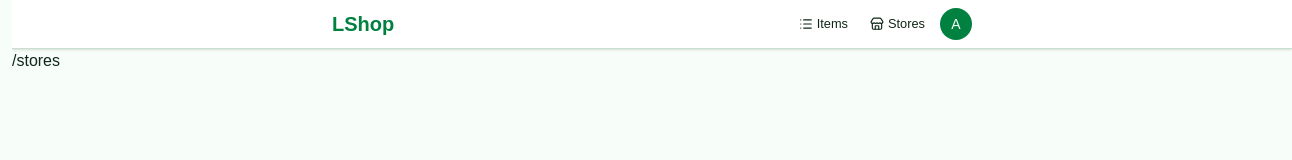
navigation › marks the current desktop route and exposes an accessible account menu
Click the button named "alex account menu" at coordinates (956, 24), box [940,8,972,40]
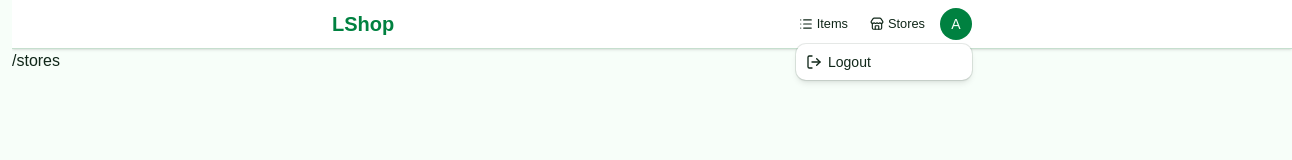
Expected: the menu item "Logout" is shown, [806,54,871,70]
